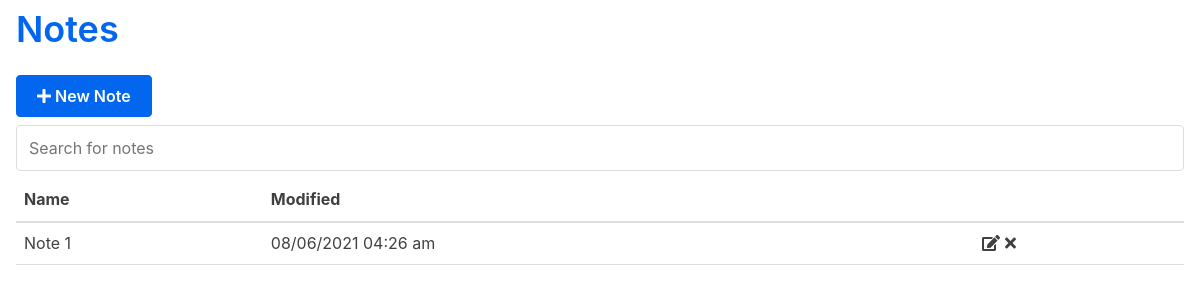
Test: Notes › deletes the note
Expected: the text "Note 1" is shown, x1=16 y1=222 x2=263 y2=265
Click the picture with test id "deleteIcon" at point(1010, 243), box x1=1005 y1=235 x2=1016 y2=251
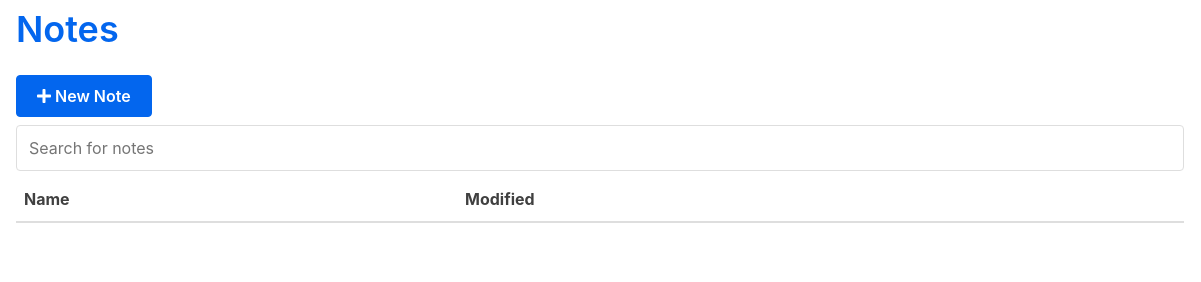
Result: the text "Note 1" is gone
